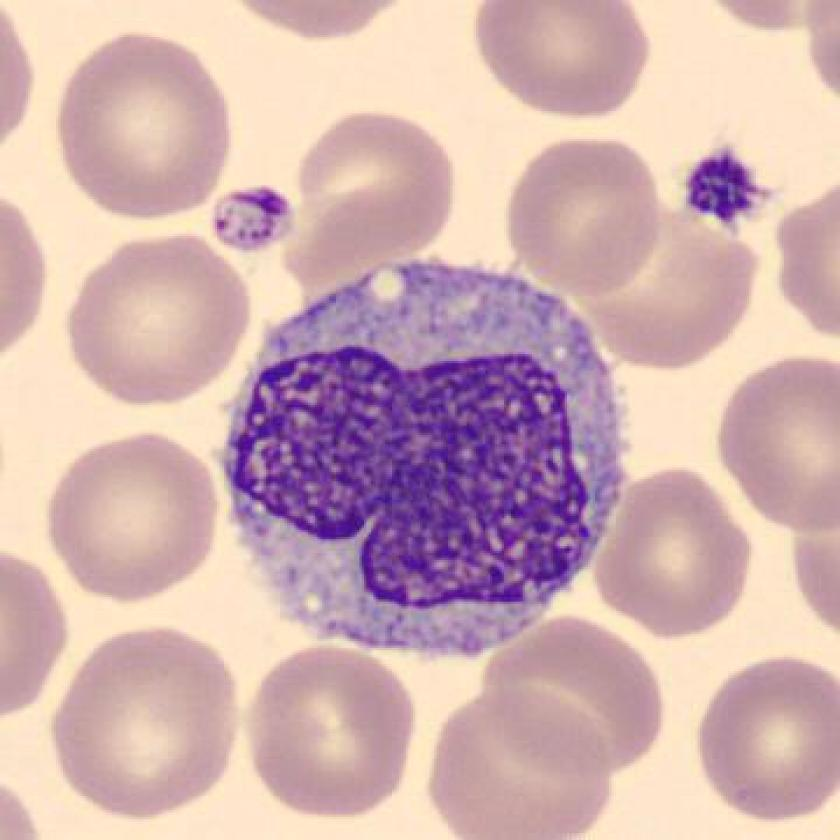monocyte: (202, 246, 647, 677)
